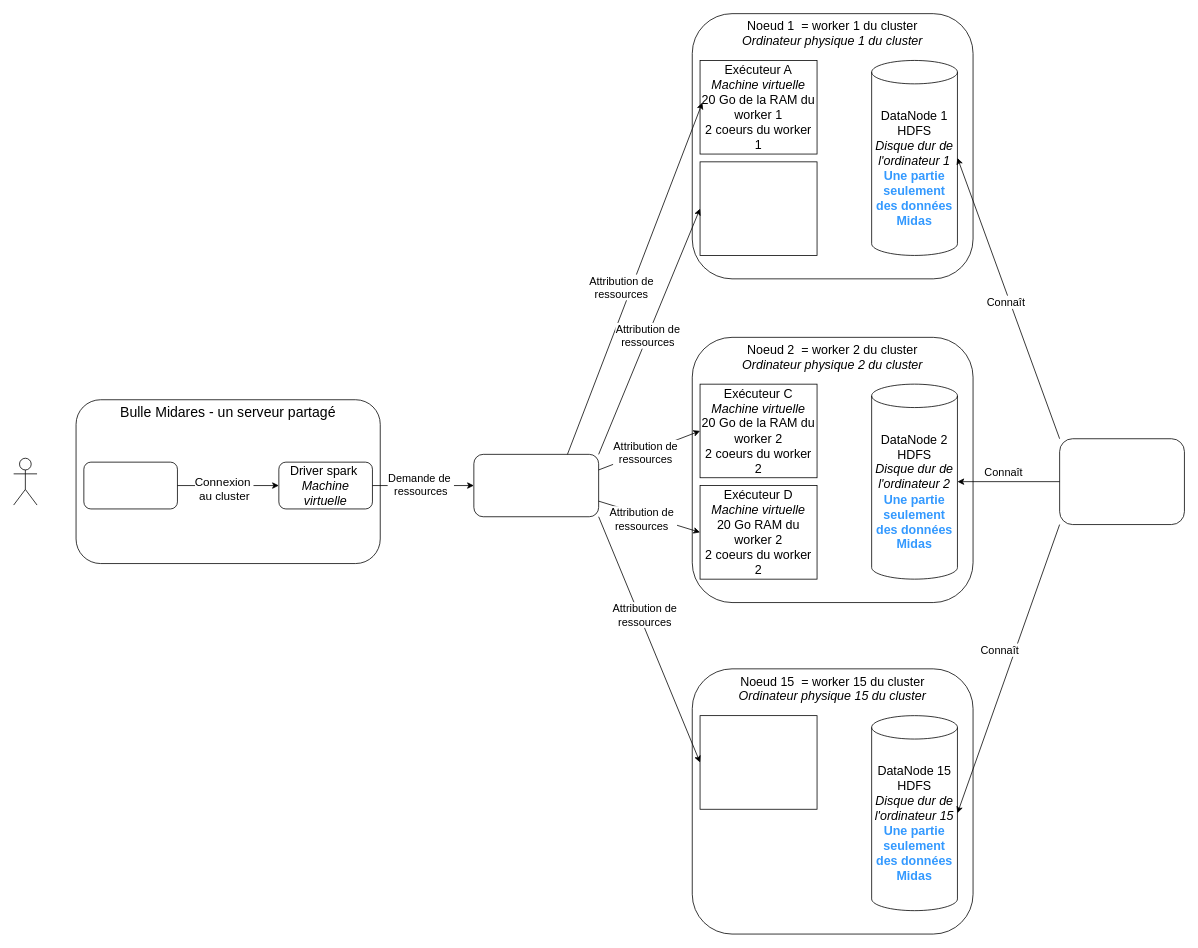
Some shapes in this 1198 by 948 pixel diagram are drawn without their labels. Each missing label, with the centre of its shape:
"Exécuteur B Machine virtuelle 20 Go RAM du worker 1 2 coeurs du worker 1" belongs at point 758,208.
"Exécuteur J Machine virtuelle 20 Go de la RAM du worker 15 2 coeurs du worker 15" belongs at point 758,762.
"NameNode HDFS Ordinateur physique Métadonnées et emplacement des blocs" belongs at point 1121,481.
"Session RStudio" belongs at point 130,485.
"Yarn ResourceManager Ordinateur physique" belongs at point 536,485.
